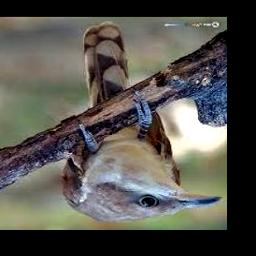Cuckoo: (61, 25, 223, 223)
